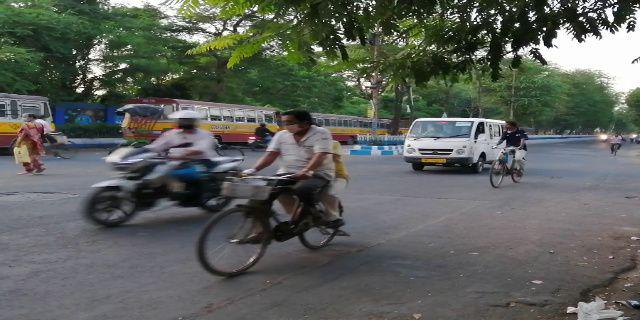Cycle: (194, 111, 349, 278), (486, 117, 530, 192)
Minitruck: (402, 116, 488, 177)
Motorbike: (76, 107, 238, 230)
